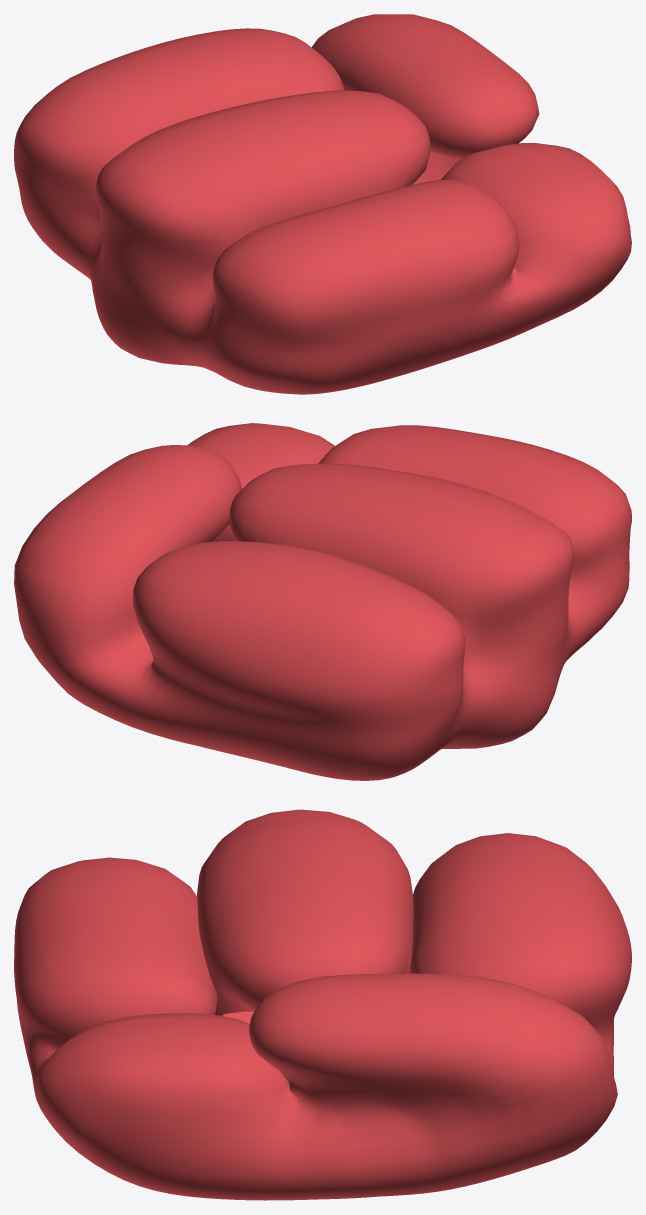
The model's file is brute.fbx.
3 renders of one model, top to bottom at view 1: azimuth 30°, elevation 25°; view 2: azimuth 150°, elevation 25°; view 3: azimuth 270°, elevation 25°, orthographic. The views are drawn at different scales.
Visible parts, largest first — view 1: fist; view 2: fist; view 3: fist.
Boxes of the visible parts, box(x1,y1,x2,y2) form: fist: box(14, 14, 631, 394); fist: box(14, 423, 631, 780); fist: box(14, 809, 631, 1200).
Size of the model in its own units: 84.33 by 40.76 by 92.77.
